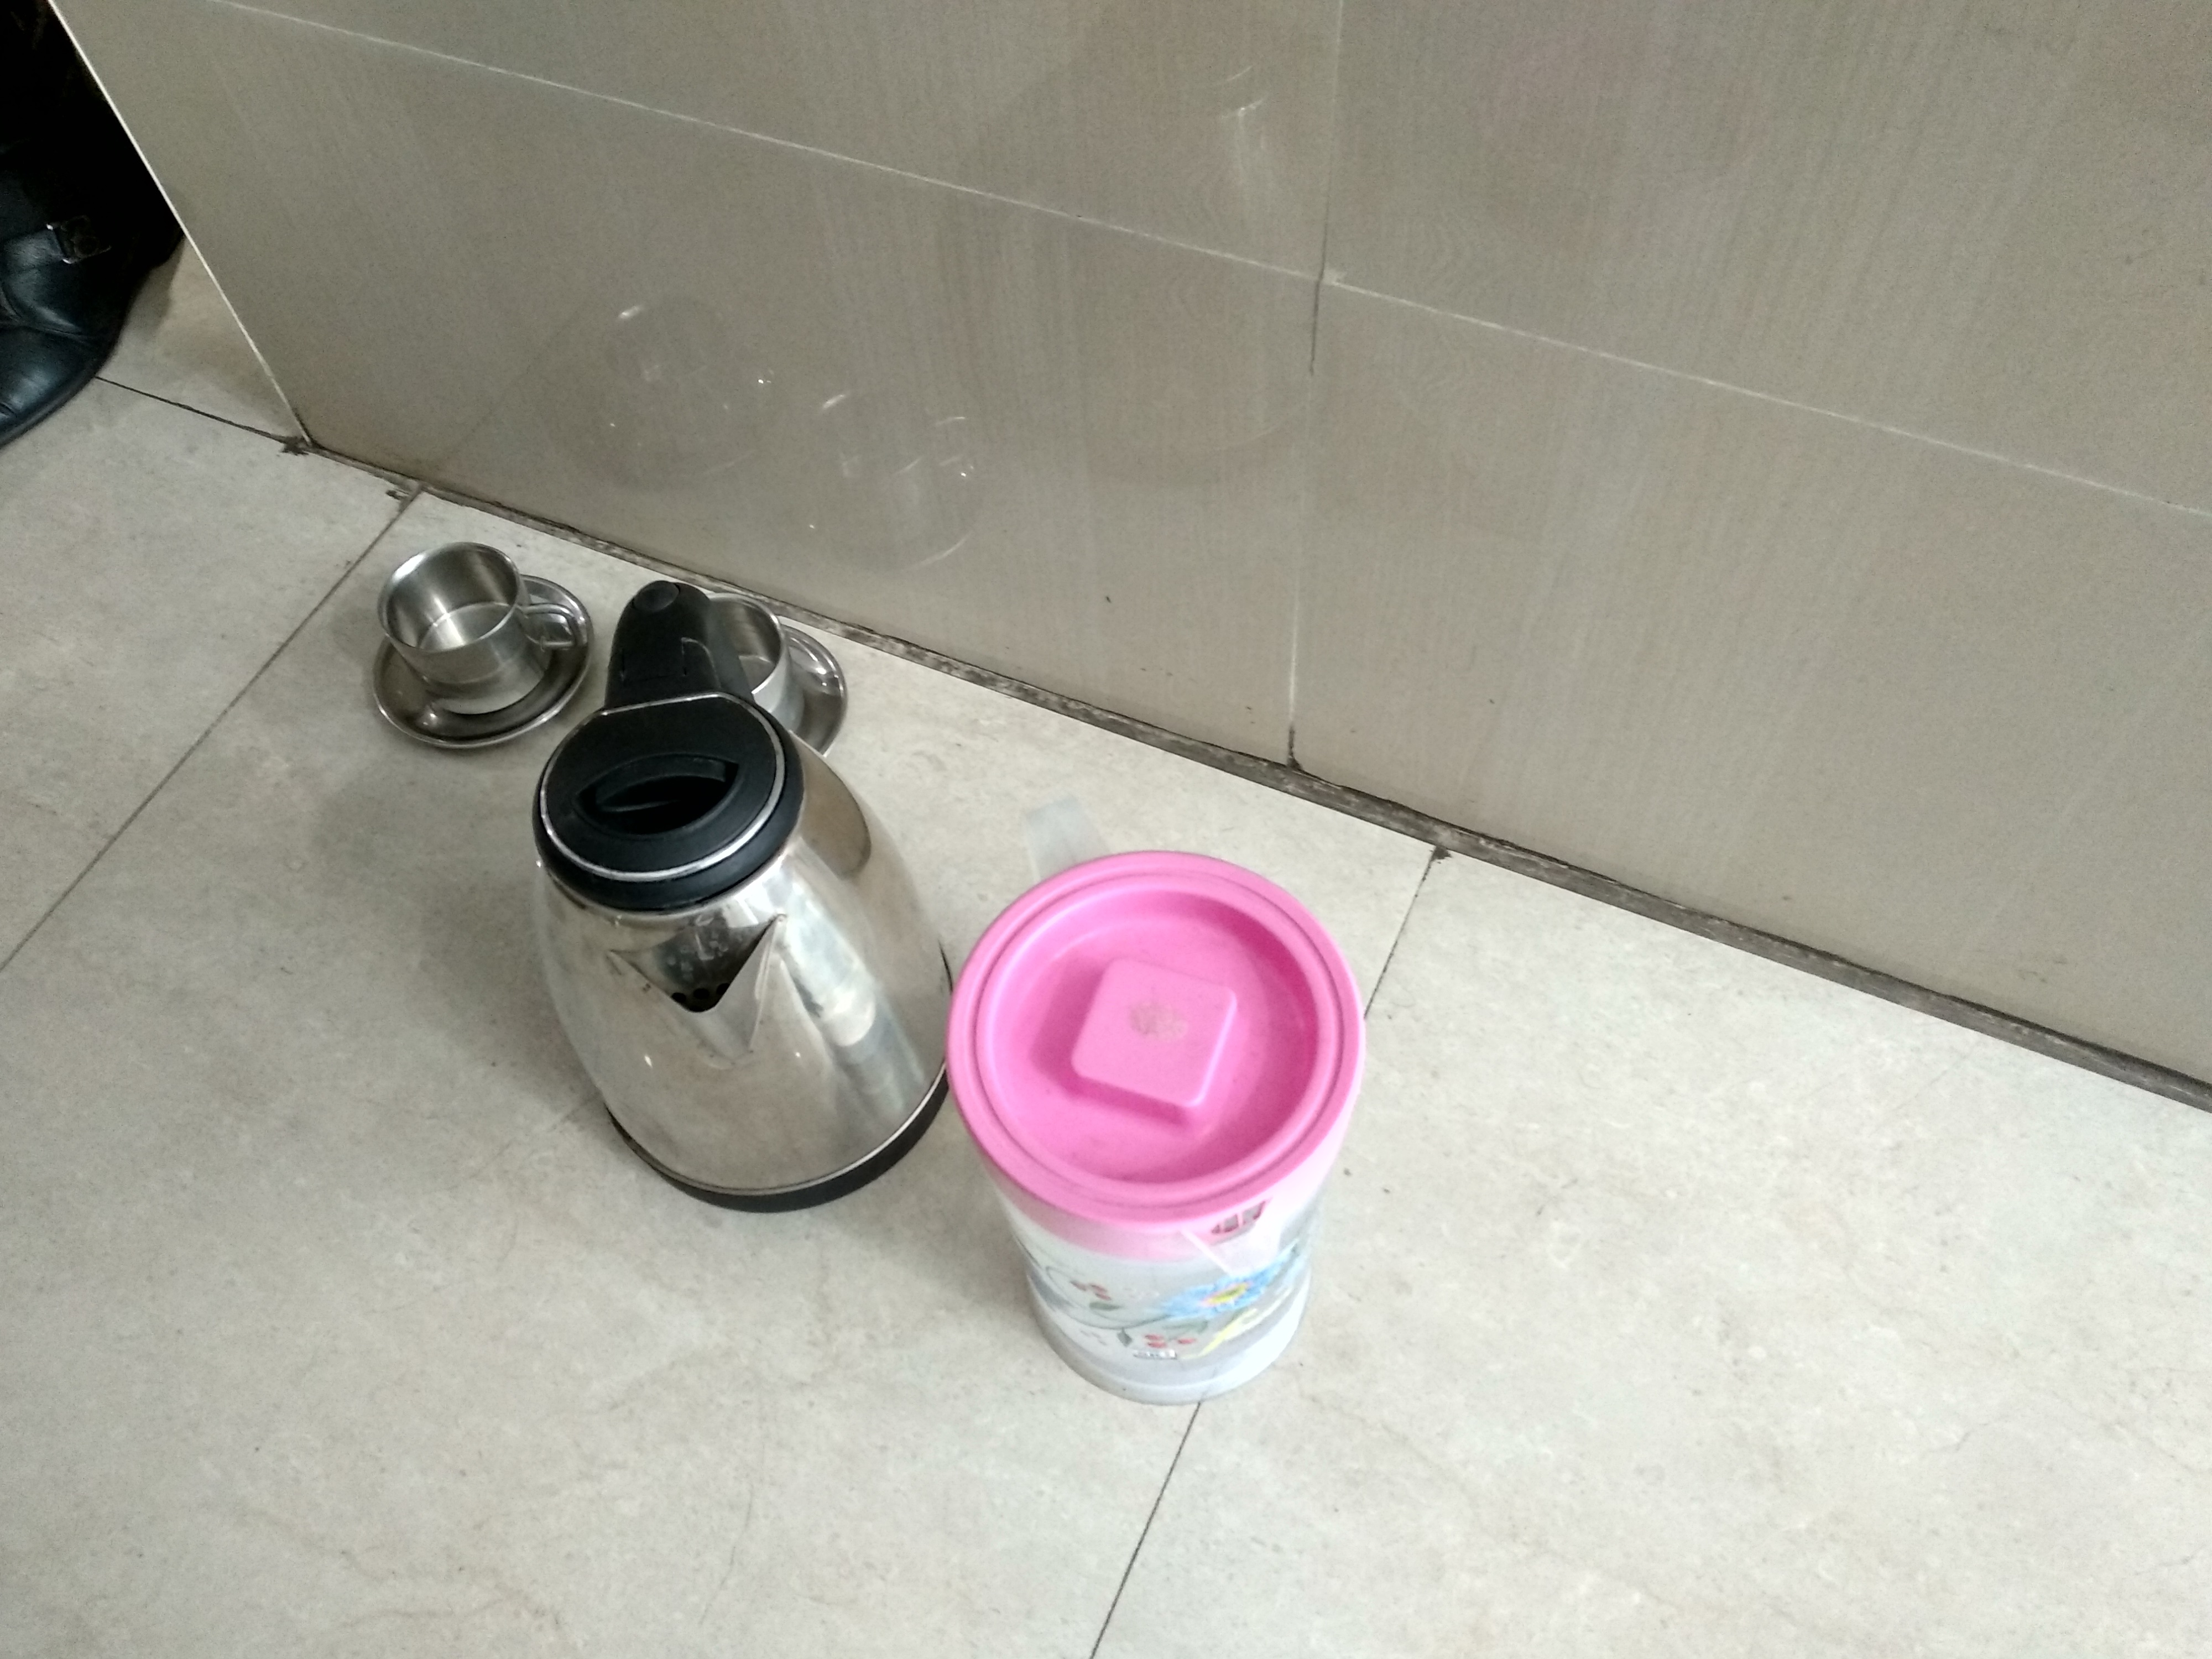CUP: (338, 504, 578, 742), (613, 552, 855, 742)
JUG: (939, 828, 1411, 1424), (502, 697, 953, 1243)
